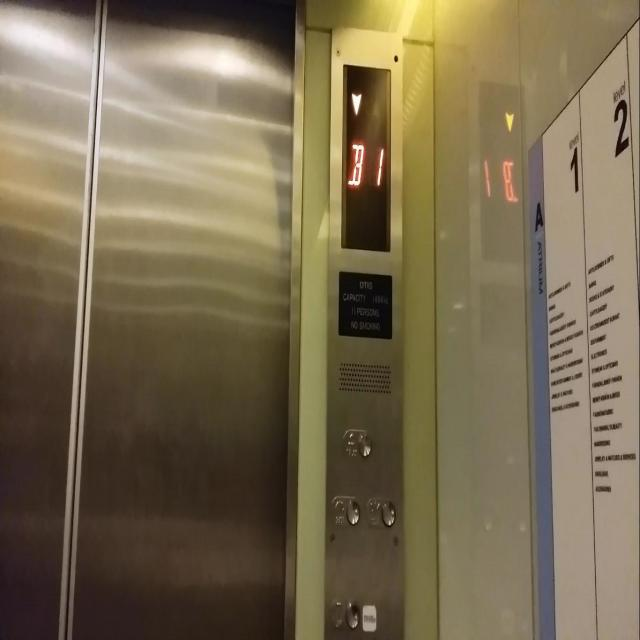7: (328, 598, 360, 630)
alarm: (341, 426, 374, 462)
close: (365, 496, 396, 528)
led: (338, 55, 399, 257), (479, 79, 530, 277)
open: (330, 493, 361, 528)
